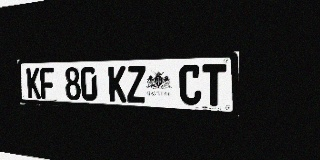0: (80, 66, 97, 101)
8: (65, 67, 81, 100)
C: (179, 64, 202, 105)
F: (40, 67, 55, 99)
K: (108, 66, 127, 102), (26, 68, 41, 99)
T: (202, 64, 226, 106)
Z: (127, 66, 146, 103)
